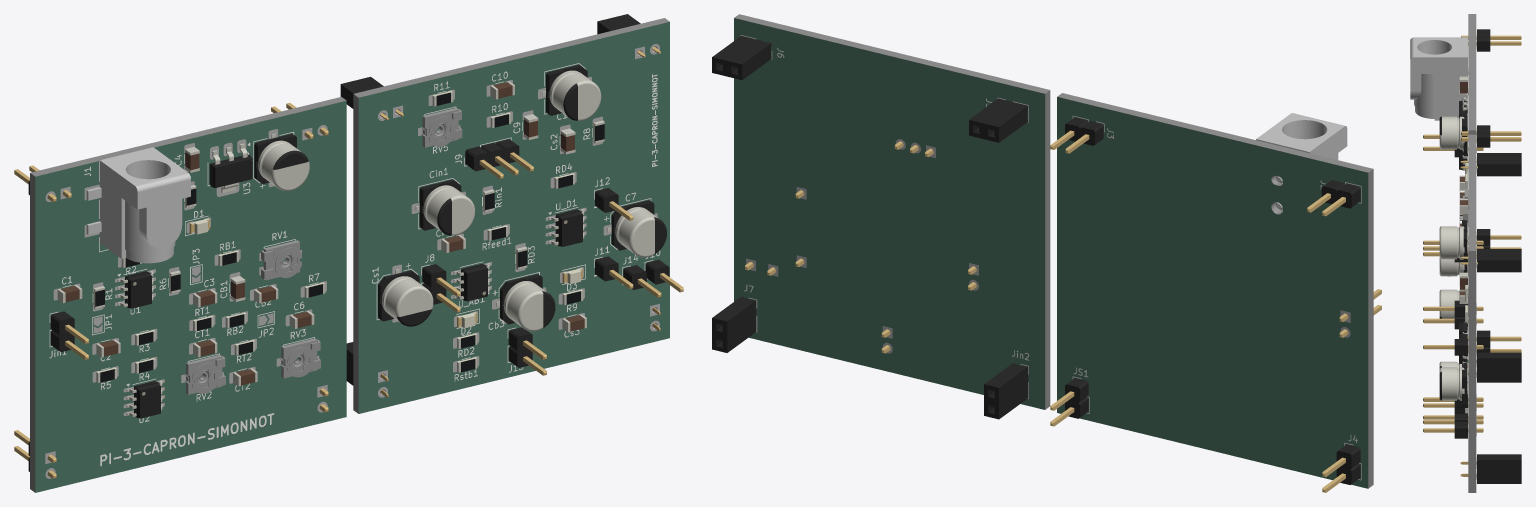
File: amplificateur-sans-cuivre.glb
The picture shows the model from 3 angles, left to right: view 1: azimuth 30°, elevation 25°; view 2: azimuth 150°, elevation 25°; view 3: azimuth 270°, elevation 25°; orthographic projection. The views are drawn at different scales.
Visible parts, largest first — view 1: Body1_15, Body3_3, Body1_10, Body1_17, Body1_18, Body1_61, Body1_1, Body1_30, Body1_63, Body1_56, Body1_29, Body1_8 (+12 smaller); view 2: Body4_3, Body1_16, Body1_18, Body1_17, Body1_10, Body1_71, Body1_75, Body1_11, Body1_77, Body1_74, Body1_72, Body1_73 (+1 smaller); view 3: Body1_10, Body1_17, Body1_71, Body1_75, Body1_11, Body1_77, Body1_18, Body1_29, Body1_30, Body1_1, Body1_76, Body1_58 (+16 smaller).
Boxes of the visible parts, x1,y1,x2,y2 form: Body1_15: (358,22,669,413); Body3_3: (35,101,346,492); Body1_10: (86,147,190,263); Body1_17: (353,18,669,413); Body1_18: (30,97,346,492); Body1_61: (415,179,474,235); Body1_1: (254,133,309,190); Body1_30: (542,64,601,120); Body1_63: (378,269,433,326); Body1_56: (496,274,555,331); Body1_29: (607,200,666,257); Body1_8: (465,139,533,178); Body4_3: (1057,97,1368,488); Body1_16: (734,18,1044,409); Body1_18: (1057,93,1373,488); Body1_17: (734,14,1050,409); Body1_10: (1256,113,1347,210); Body1_71: (712,296,756,352); Body1_75: (984,363,1028,419); Body1_11: (712,36,771,80); Body1_77: (969,98,1028,142); Body1_74: (1322,444,1360,492); Body1_72: (1050,378,1088,426); Body1_73: (1307,180,1360,216); Body1_10: (1410,37,1468,120); Body1_17: (1468,134,1476,492); Body1_71: (1460,454,1521,483); Body1_75: (1468,352,1521,382); Body1_11: (1460,249,1521,272); Body1_77: (1460,153,1521,176); Body1_18: (1468,14,1476,134); Body1_29: (1439,363,1467,406); Body1_30: (1439,220,1467,262); Body1_1: (1439,110,1467,153); Body1_76: (1461,125,1521,147); Body1_58: (1423,300,1483,329).
Size of the model in its own units: 0.1067 by 0.0509 by 0.0212.
